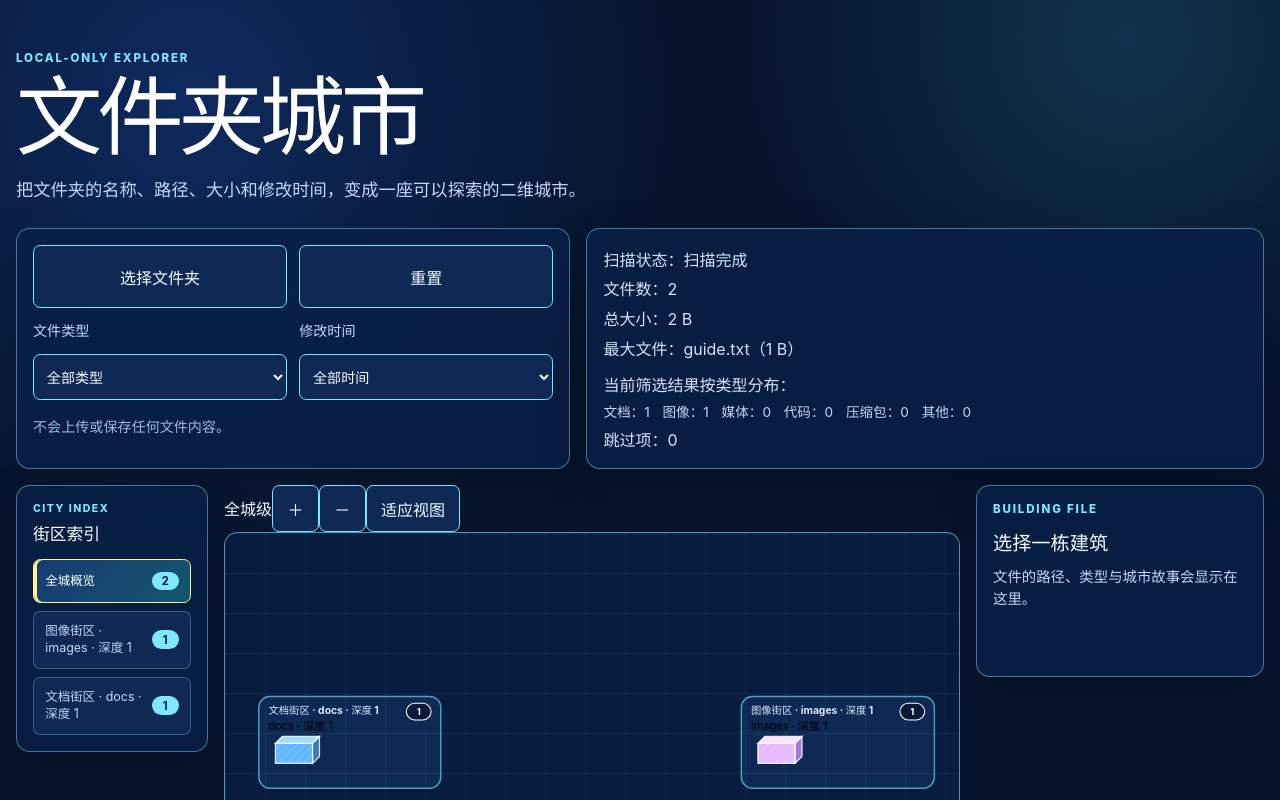
Test: updates the type distribution to match the active category filter
The image size is (1280, 800).
Select "图像" in the dropdown labelled "文件类型" at coordinates (160, 377), box [33,354,287,400]
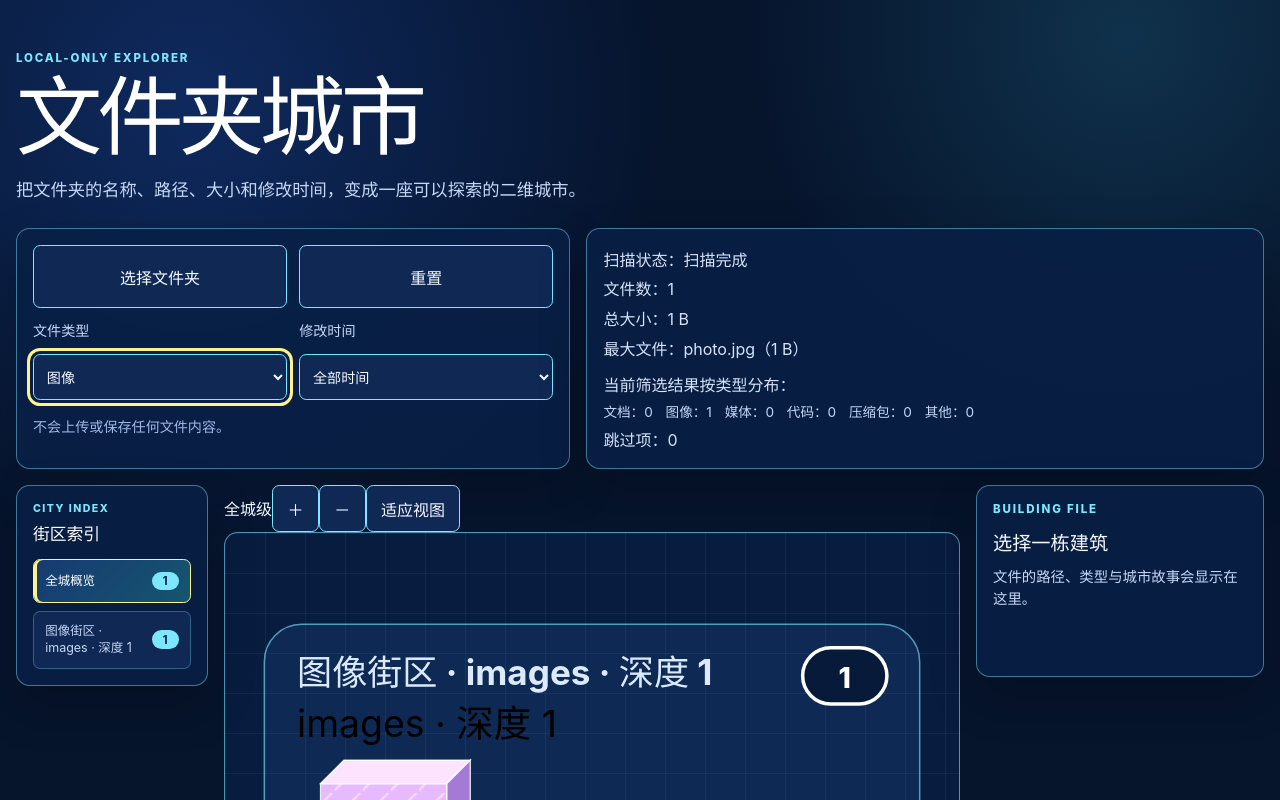
Check: the element labelled "当前筛选结果按类型分布" shows "图像：1", box [603,375,974,420]
Check: the element labelled "当前筛选结果按类型分布" shows "文档：0", box [603,375,974,420]
